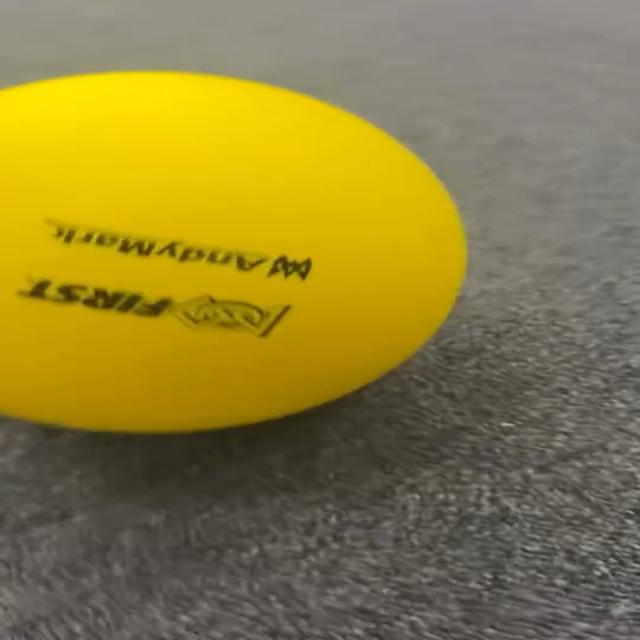Fuels: (3, 73, 465, 429)
